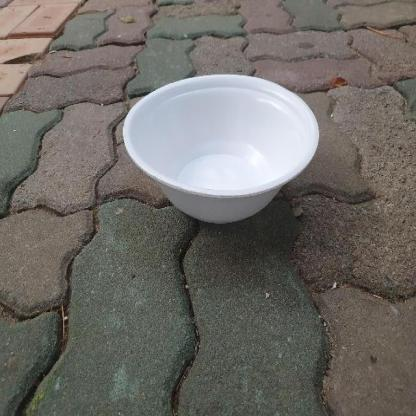Glass Cup: (123, 74, 319, 223), (124, 76, 318, 224)
